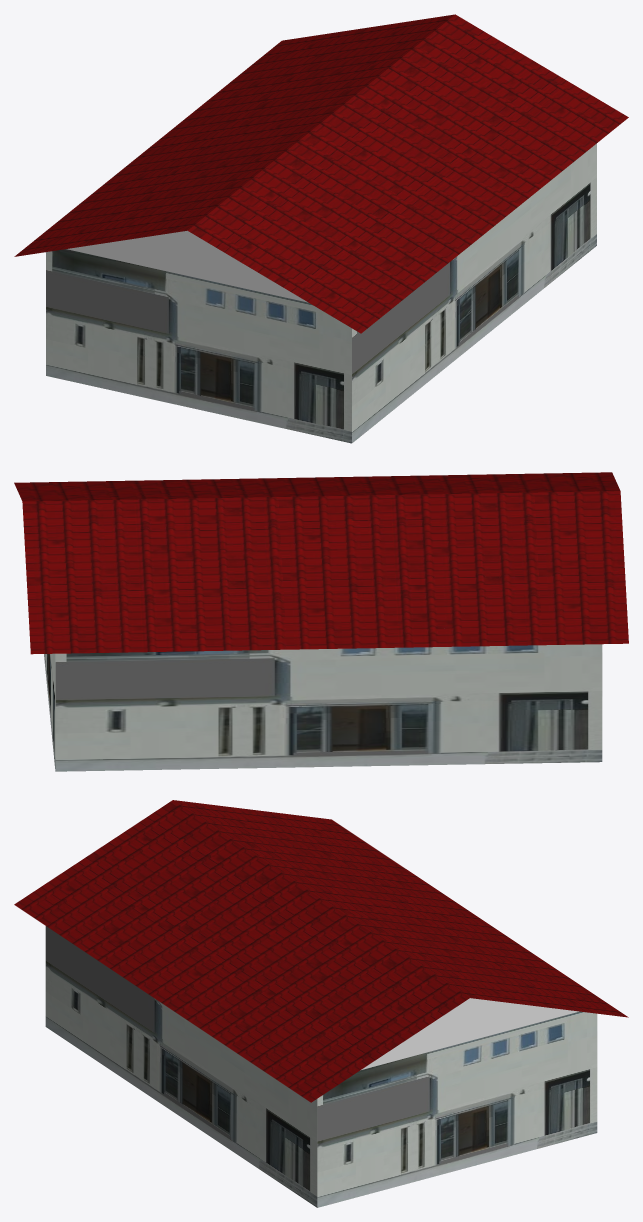
3 renders of one model, top to bottom at view 1: azimuth 30°, elevation 25°; view 2: azimuth 150°, elevation 25°; view 3: azimuth 270°, elevation 25°, orthographic. The views are drawn at different scales.
Visible parts, largest first — view 1: CityEngineMaterial_17_m, CityEngineMaterial_11_m, CityEngineMaterial_3_m; view 2: CityEngineMaterial_17_m, CityEngineMaterial_11_m; view 3: CityEngineMaterial_17_m, CityEngineMaterial_11_m, CityEngineMaterial_3_m.
Boxes of the visible parts, <box> form: CityEngineMaterial_17_m: <box>14,14,628,333</box>; CityEngineMaterial_11_m: <box>46,143,596,443</box>; CityEngineMaterial_3_m: <box>67,230,307,302</box>; CityEngineMaterial_17_m: <box>14,472,628,654</box>; CityEngineMaterial_11_m: <box>44,644,602,771</box>; CityEngineMaterial_17_m: <box>14,800,628,1102</box>; CityEngineMaterial_11_m: <box>45,926,597,1207</box>; CityEngineMaterial_3_m: <box>361,998,578,1069</box>.
Size of the model in its own units: 28.22 by 8.4 by 25.89.
